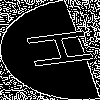H: (25, 25, 100, 70)
